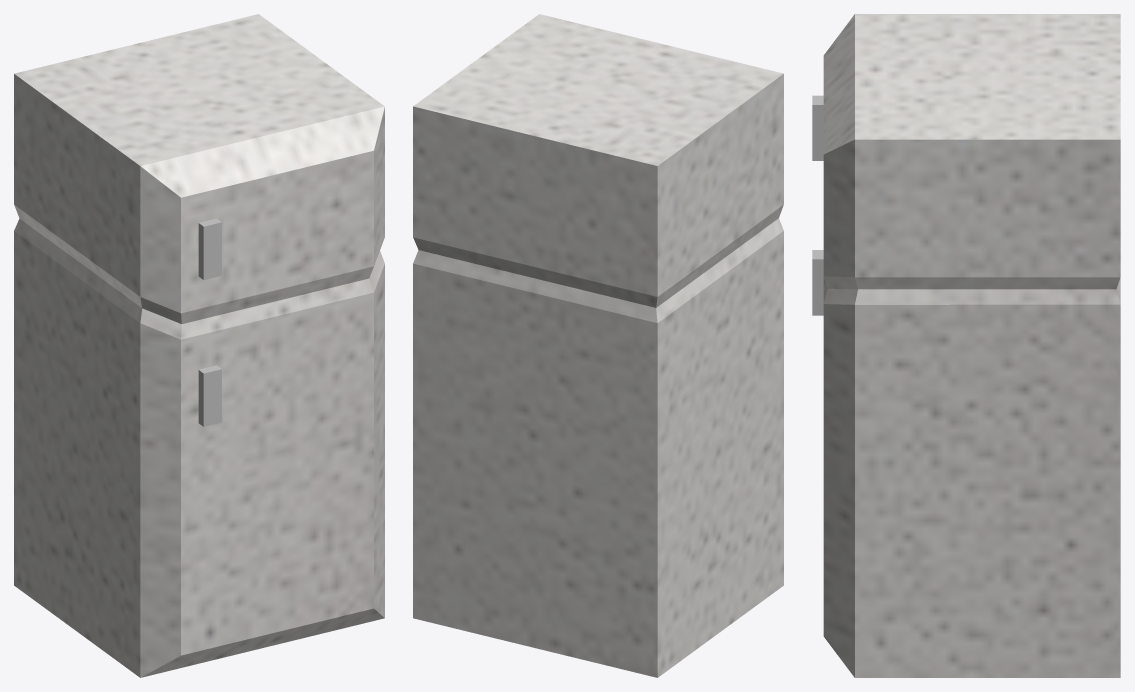
File: fridge.fbx
The picture shows the model from 3 angles, left to right: view 1: azimuth 30°, elevation 25°; view 2: azimuth 150°, elevation 25°; view 3: azimuth 270°, elevation 25°; orthographic projection. The views are drawn at different scales.
Parts seen in each view (by area): view 1: Cube.001, Cube.007, Cube.008; view 2: Cube.001; view 3: Cube.001, Cube.007, Cube.008.
Boxes of the visible parts, x1,y1,x2,y2 form: Cube.001: [14, 14, 384, 677]; Cube.007: [198, 365, 221, 426]; Cube.008: [198, 218, 221, 279]; Cube.001: [413, 14, 783, 677]; Cube.001: [823, 14, 1120, 677]; Cube.007: [812, 250, 823, 315]; Cube.008: [812, 95, 823, 160].
Bounding box in the file's own units: 200 × 400 × 207.
